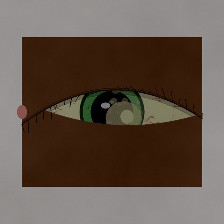corneal_ulcer: (94, 95, 153, 142)
